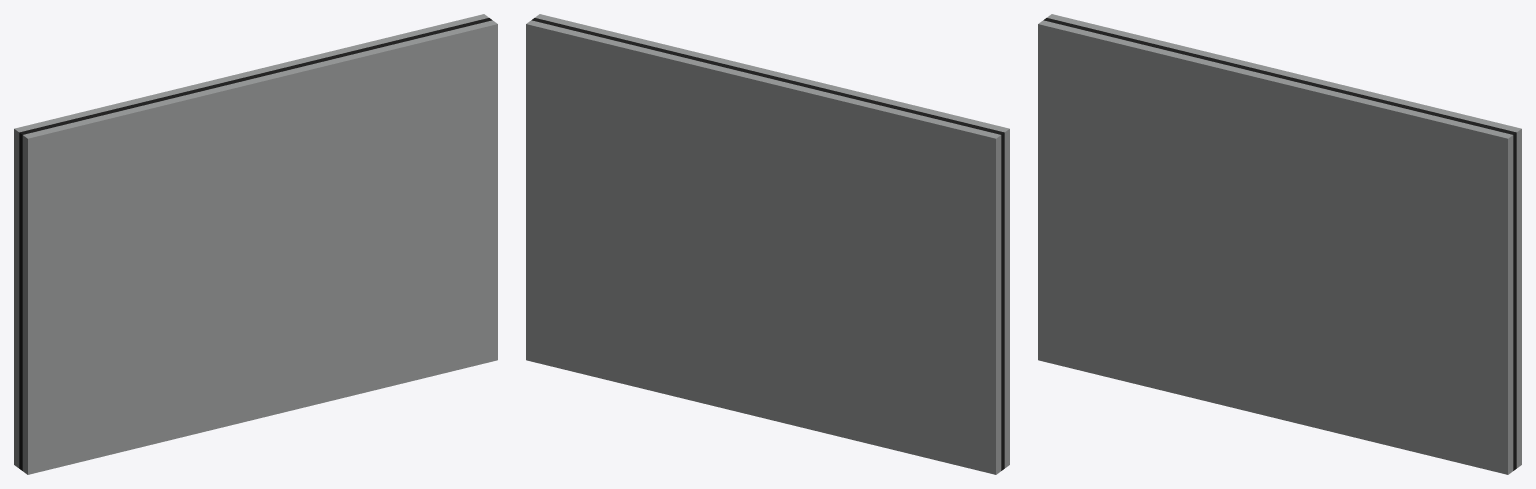
Rendered from HVAC_Transition_50x75.fbx.
3 renders of one model, left to right at view 1: azimuth 30°, elevation 25°; view 2: azimuth 150°, elevation 25°; view 3: azimuth 330°, elevation 25°, orthographic.
Visible parts, largest first — view 1: HVAC_Transition_50x75; view 2: HVAC_Transition_50x75; view 3: HVAC_Transition_50x75.
Part boxes in pixels (box(x1,y1,x2,y2)): HVAC_Transition_50x75: box(14, 14, 497, 474); HVAC_Transition_50x75: box(526, 14, 1009, 474); HVAC_Transition_50x75: box(1038, 14, 1521, 474).
Size of the model in its own units: 0.0079 by 0.0054 by 0.0004.
